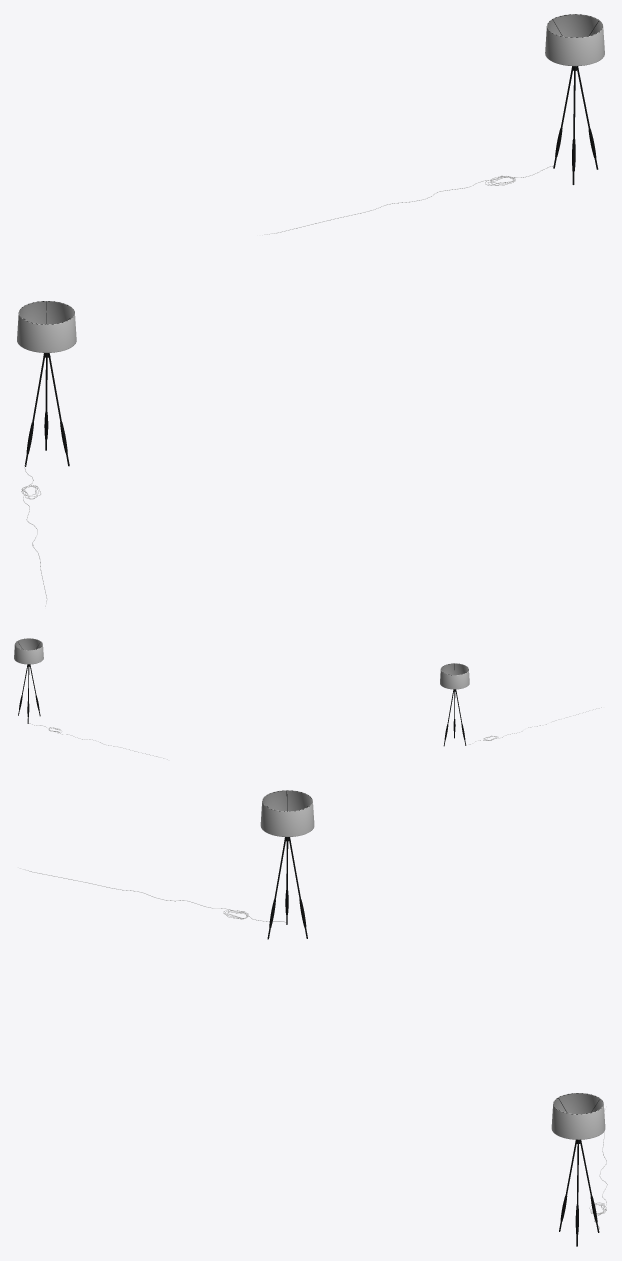
The model's file is NightLight.FBX.
The picture shows the model from 3 angles, top to bottom: view 1: azimuth 30°, elevation 25°; view 2: azimuth 150°, elevation 25°; view 3: azimuth 270°, elevation 25°; orthographic projection. The views are drawn at different scales.
Parts seen in each view (by area): view 1: NightLight (×2); view 2: NightLight (×2); view 3: NightLight (×2).
Part boxes in pixels (x1,y1,x2,y2): NightLight (×2): (17,14,604,606); NightLight (×2): (14,638,601,759); NightLight (×2): (20,790,607,1246).
Bounding box in the file's own units: 32.05 × 5.23 × 21.08.
